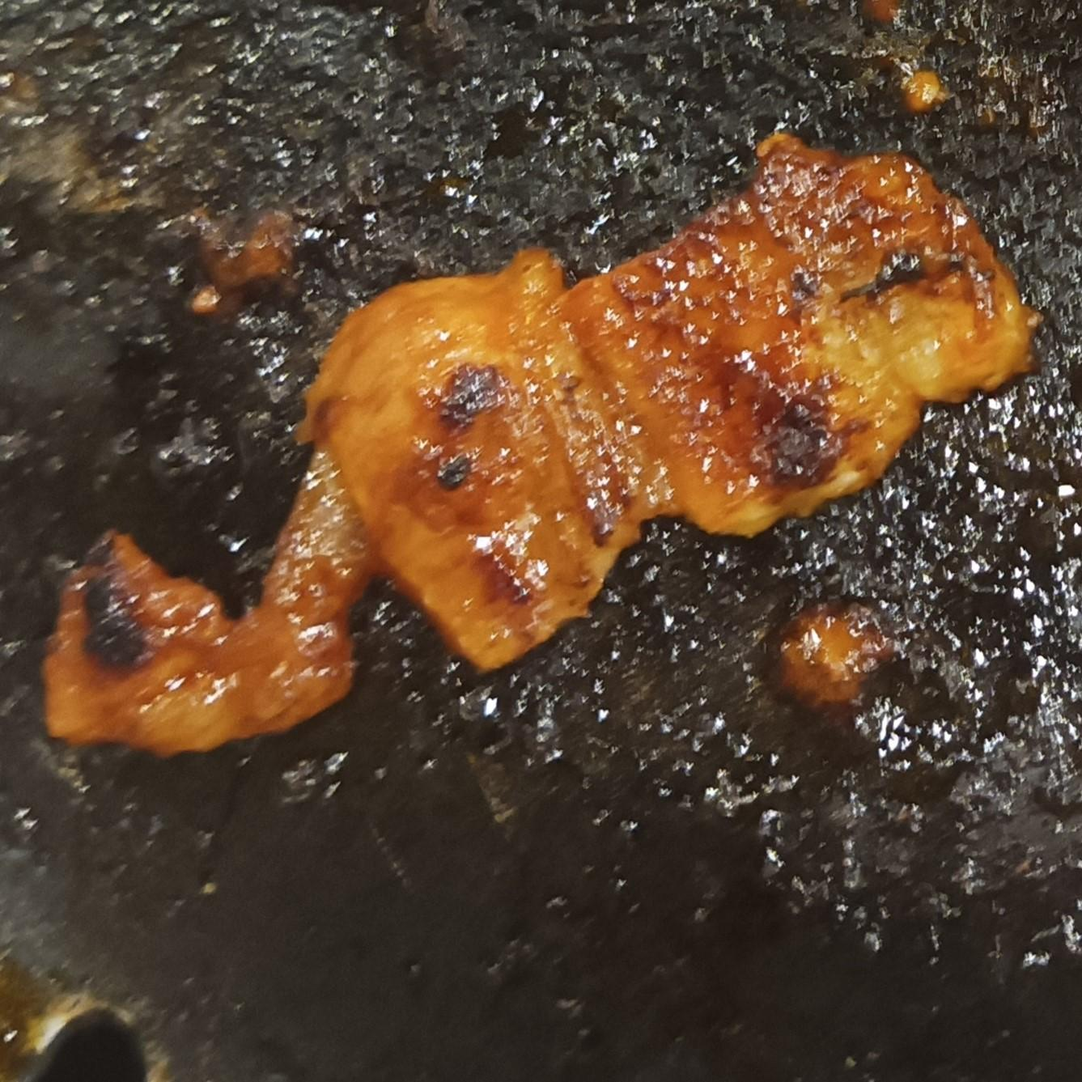Overcooked: (43, 134, 1037, 753)
